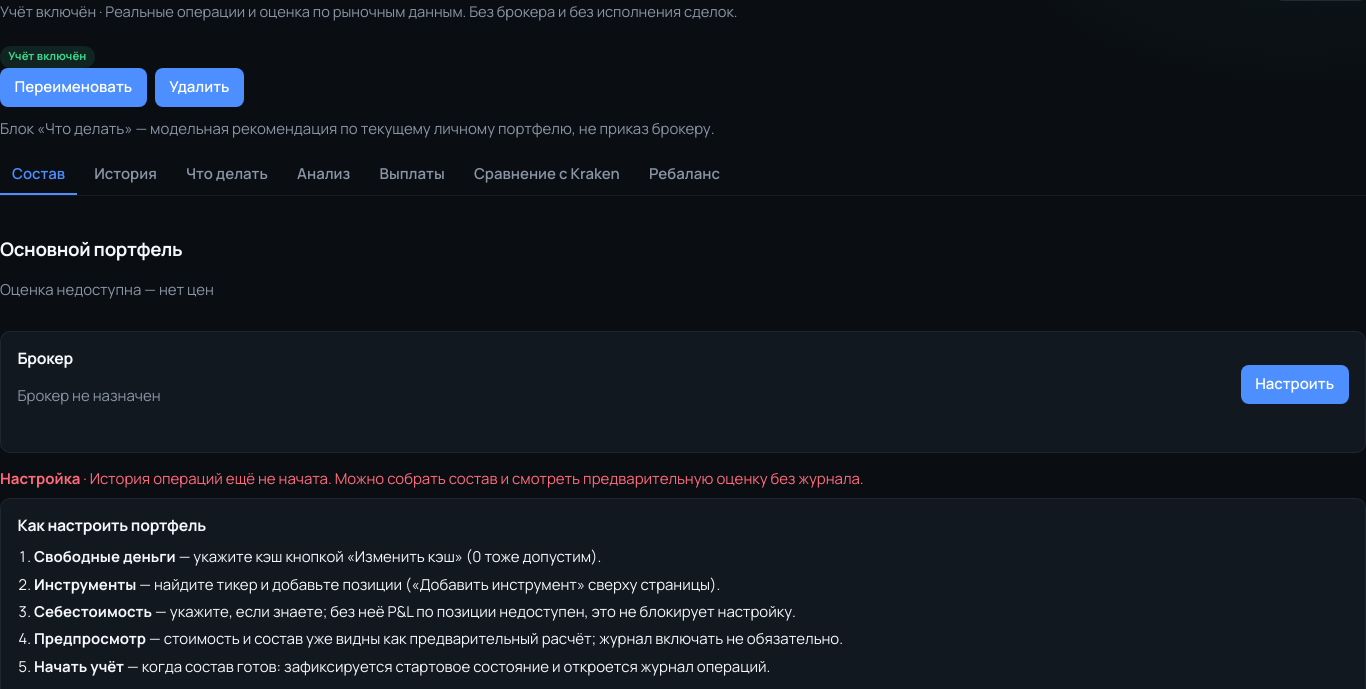
Test: MyPortfolioPage › loads decision tab with daily personal decision
Click the button with test id "tab-decision": (227, 175) [174,155,280,195]
(page scrolled)
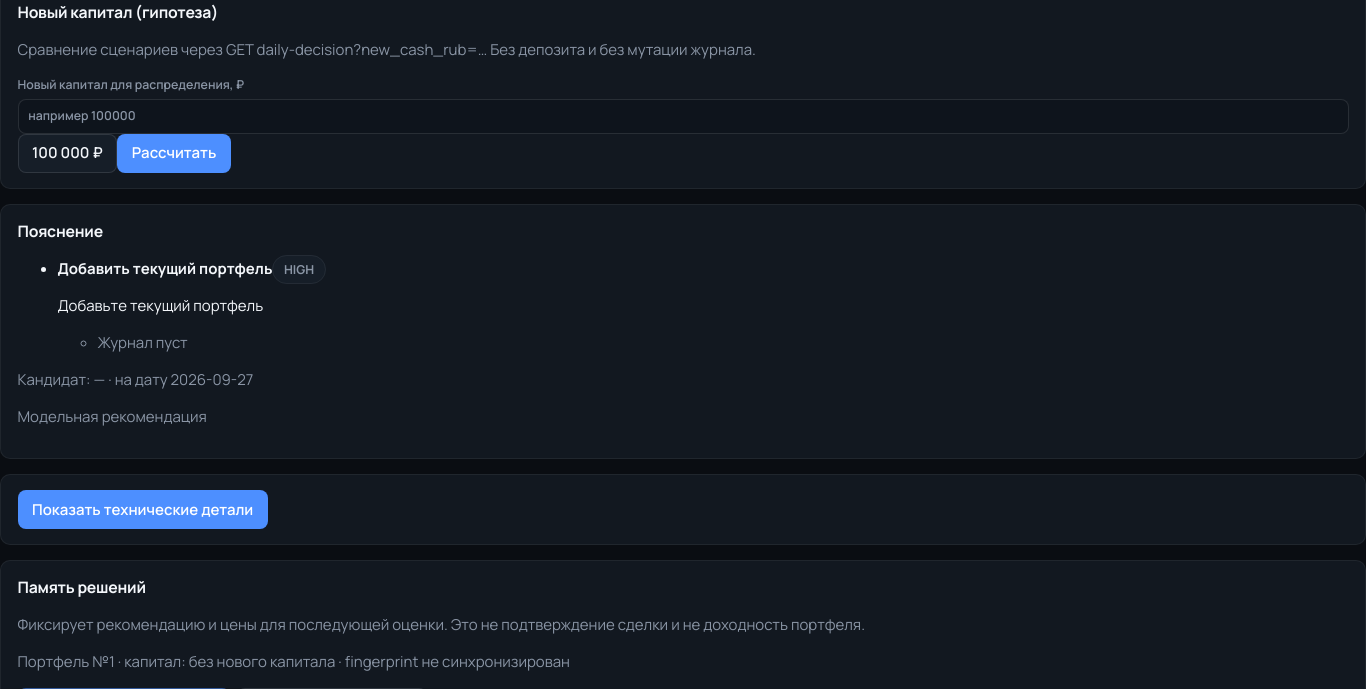
Check: the list item with test id "daily-action-SETUP" is shown, box [58,255,326,353]
